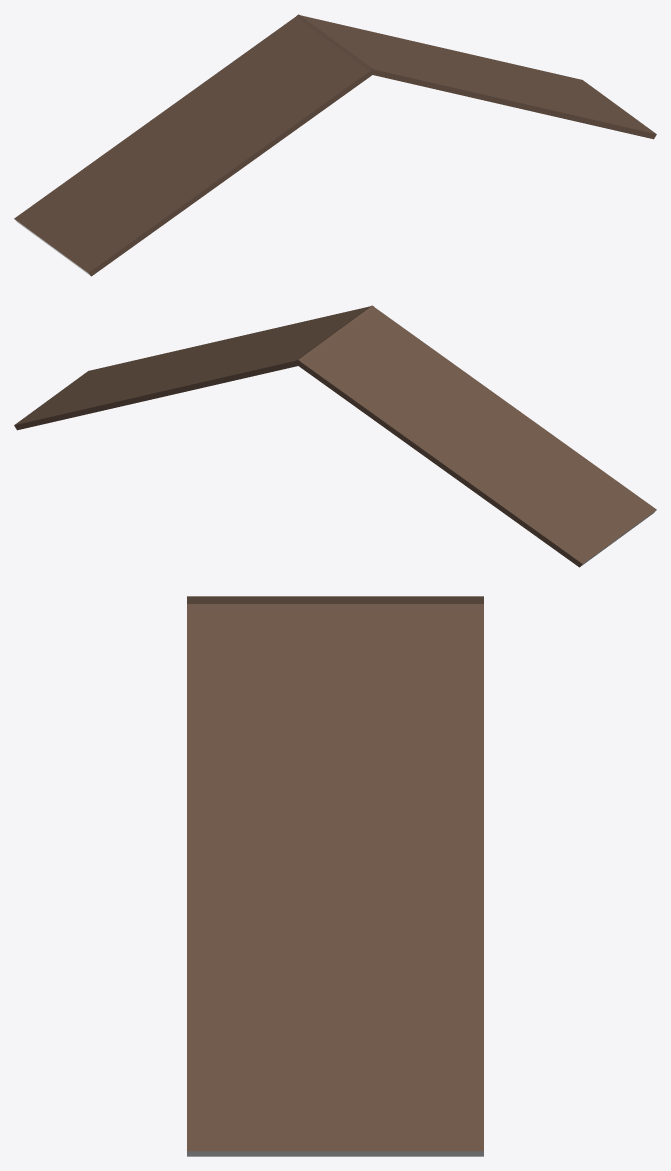
Rendered from Roof5_C2_01.fbx.
3 views of the same model, one above another, from view 1: azimuth 30°, elevation 25°; view 2: azimuth 150°, elevation 25°; view 3: azimuth 270°, elevation 25° (orthographic). The views are drawn at different scales.
Visible parts, largest first — view 1: Roof5_C2_01; view 2: Roof5_C2_01; view 3: Roof5_C2_01.
Part boxes in pixels (x1,y1,x2,y2): Roof5_C2_01: (14,14,656,276); Roof5_C2_01: (14,305,656,567); Roof5_C2_01: (187,596,483,1156).
Size of the model in its own units: 1105 by 258 by 250.
